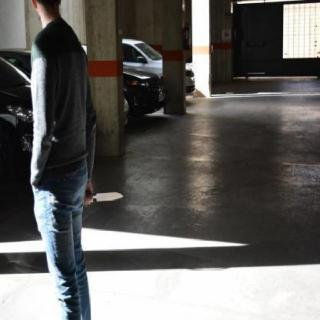knife: (88, 188, 126, 204)
